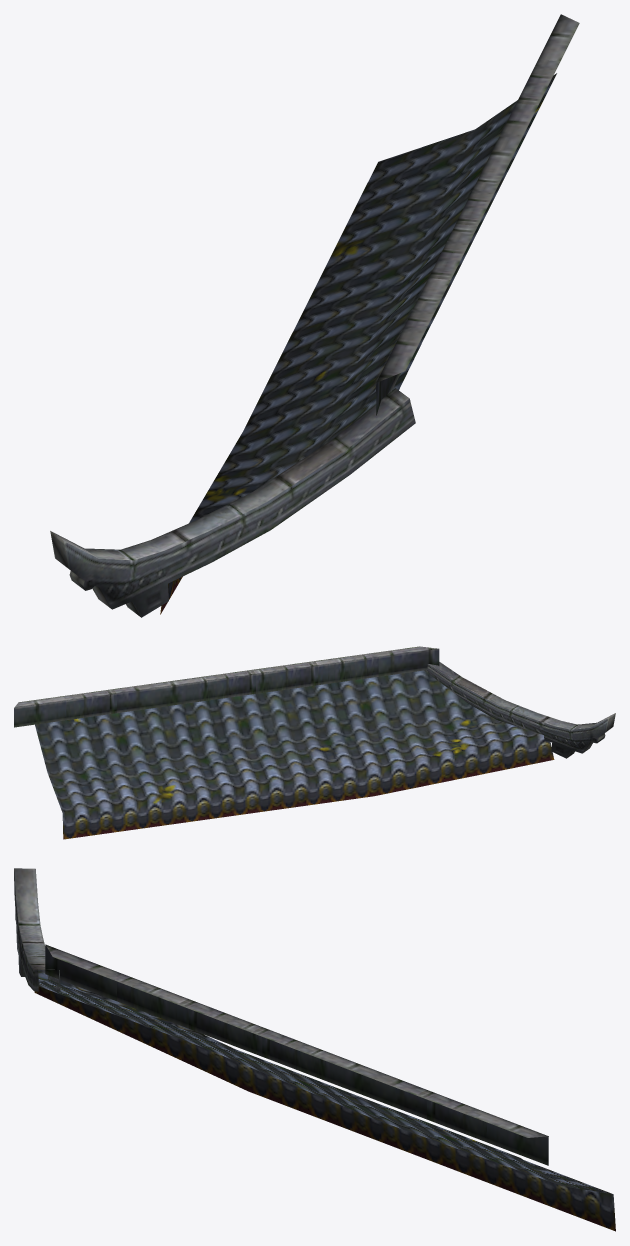
The model's file is S2_Build_XSC059_H4.FBX.
3 renders of one model, top to bottom at view 1: azimuth 30°, elevation 25°; view 2: azimuth 150°, elevation 25°; view 3: azimuth 270°, elevation 25°, orthographic. The views are drawn at different scales.
Visible parts, largest first — view 1: S2_Build_XSC059_H4; view 2: S2_Build_XSC059_H4; view 3: S2_Build_XSC059_H4.
Part boxes in pixels (x1,y1,x2,y2): S2_Build_XSC059_H4: [50, 14, 579, 617]; S2_Build_XSC059_H4: [14, 646, 615, 839]; S2_Build_XSC059_H4: [14, 868, 615, 1231].
Bounding box in the file's own units: 4524 × 995 × 3646.
